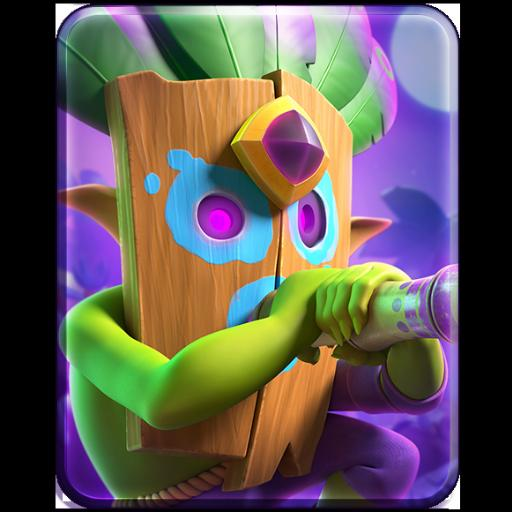dart-goblin-evo: (66, 14, 448, 496)
